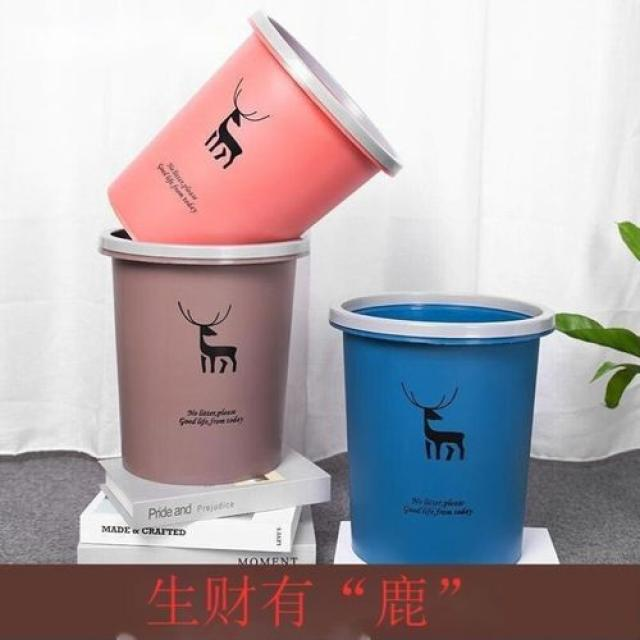dustbin: (105, 8, 406, 247), (327, 286, 559, 564), (95, 228, 317, 490)
